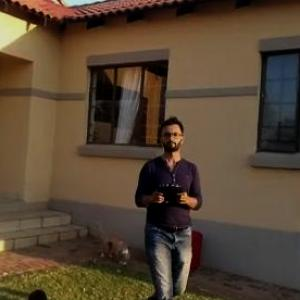follow: (128, 111, 207, 299)
null: (90, 213, 134, 269)
